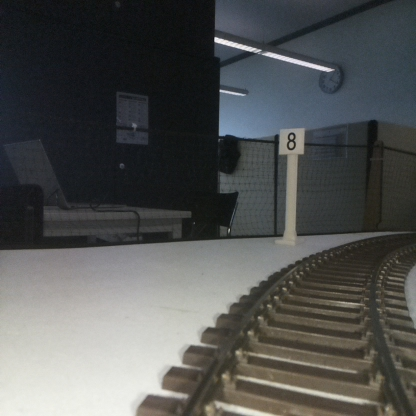white-info-8: (279, 127, 304, 243)
